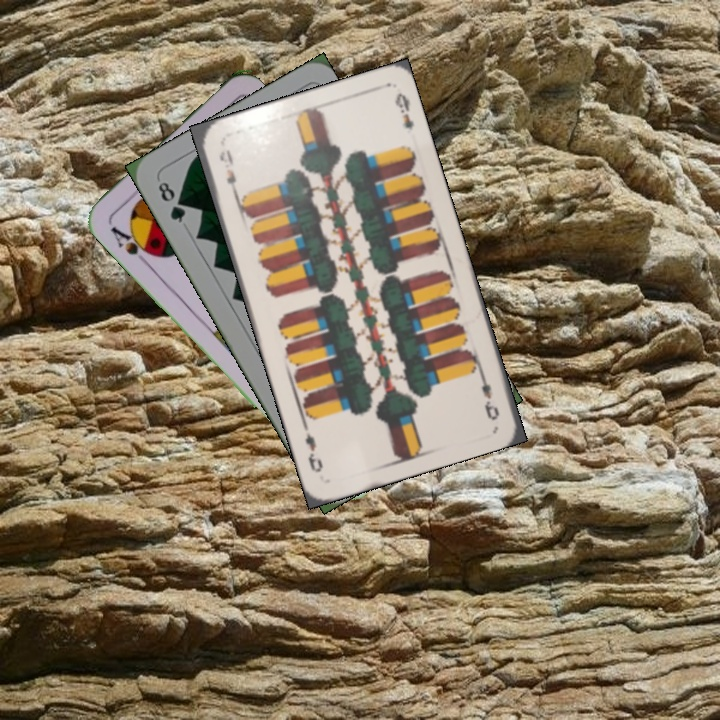E9: (474, 365, 502, 423), (215, 146, 242, 200)
G8: (153, 177, 189, 226)
SA: (106, 222, 157, 267)
